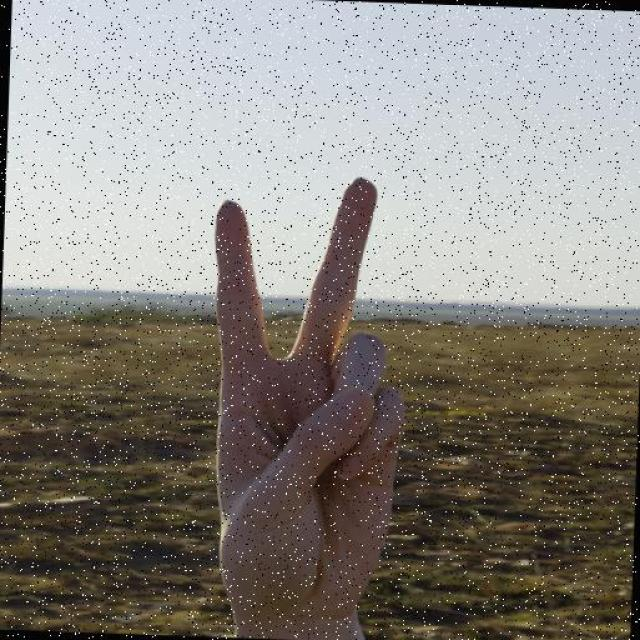V: (192, 168, 424, 612)
